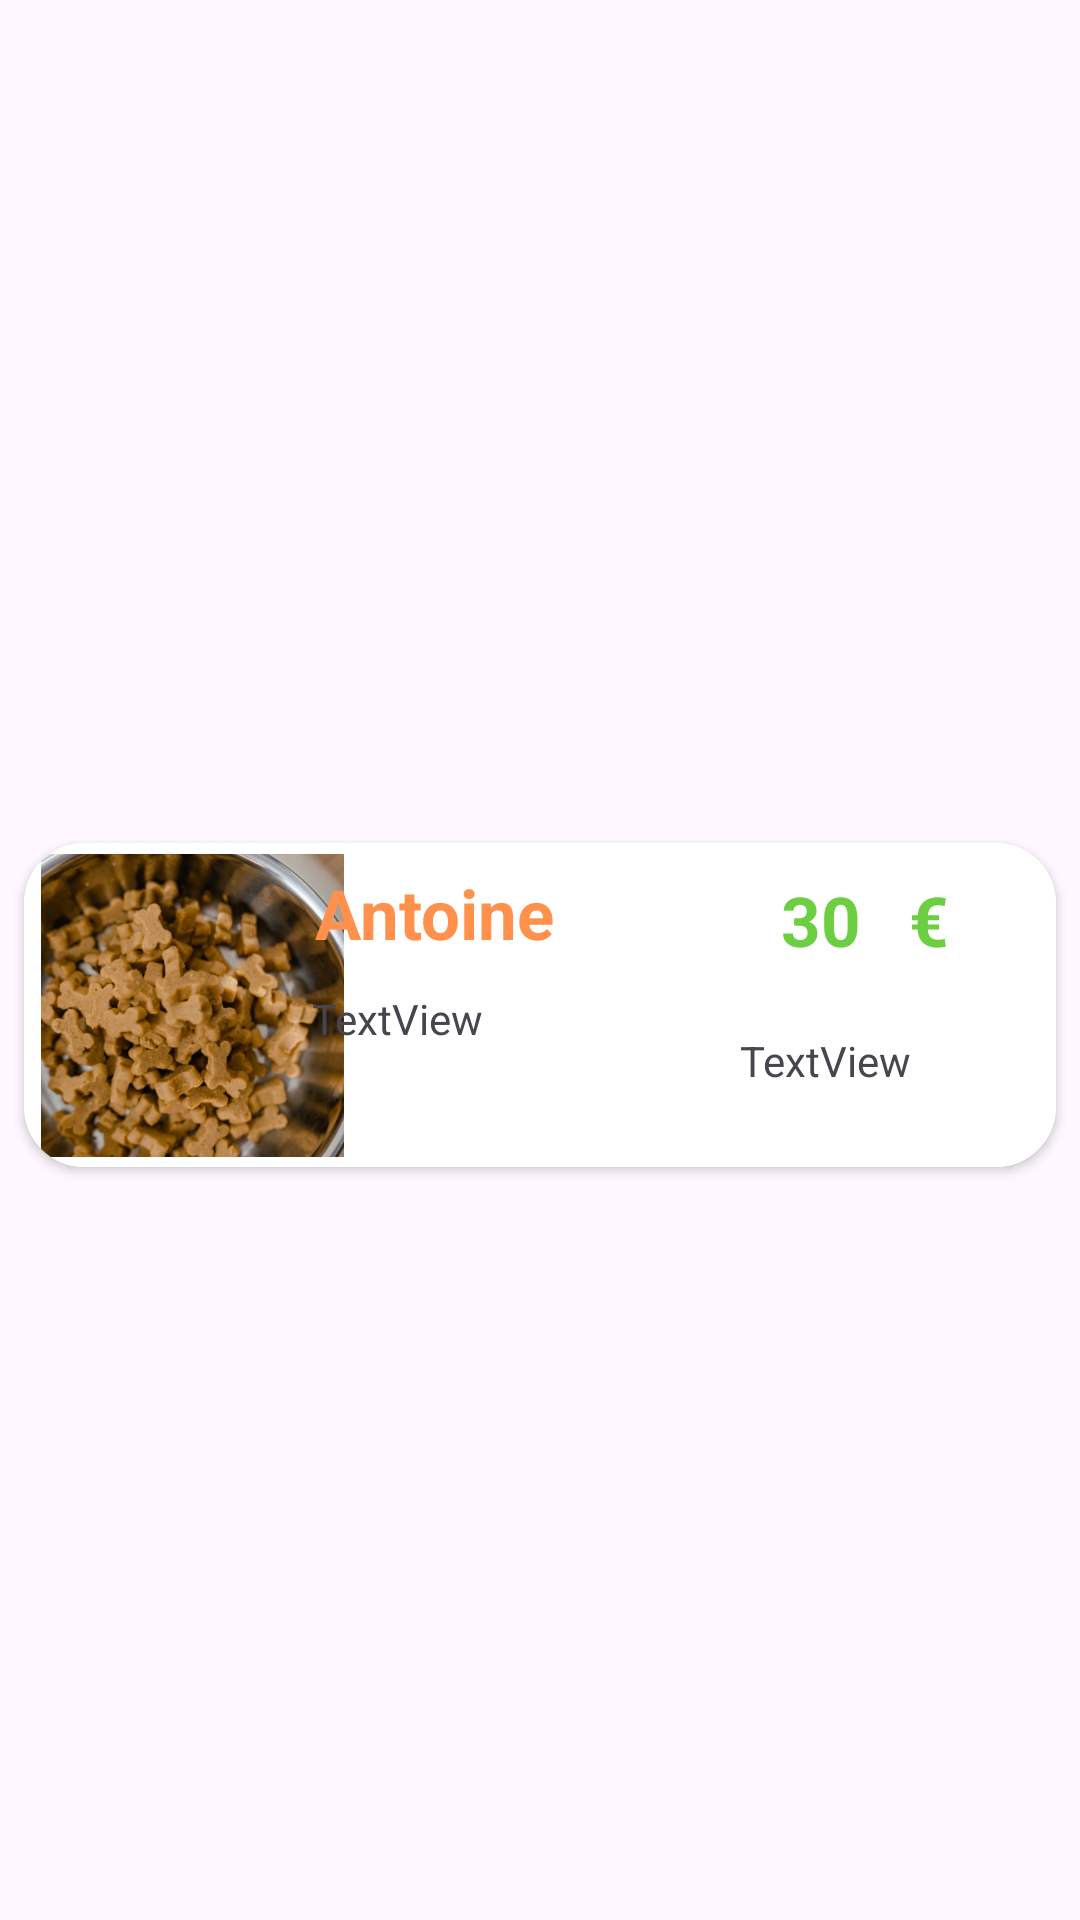

Where to tap for icons on this 1080w x 1920h app screen, as [x,y]:
croquette: [192,1010]
